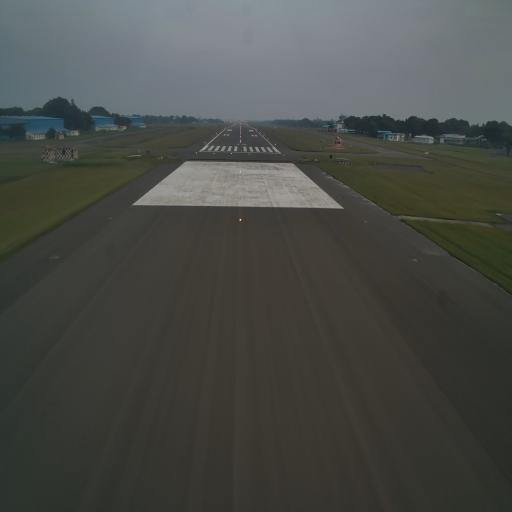off: (49, 251, 61, 262), (411, 254, 419, 264), (108, 214, 113, 222), (363, 217, 368, 225)
on: (238, 215, 244, 226), (238, 168, 242, 176)
